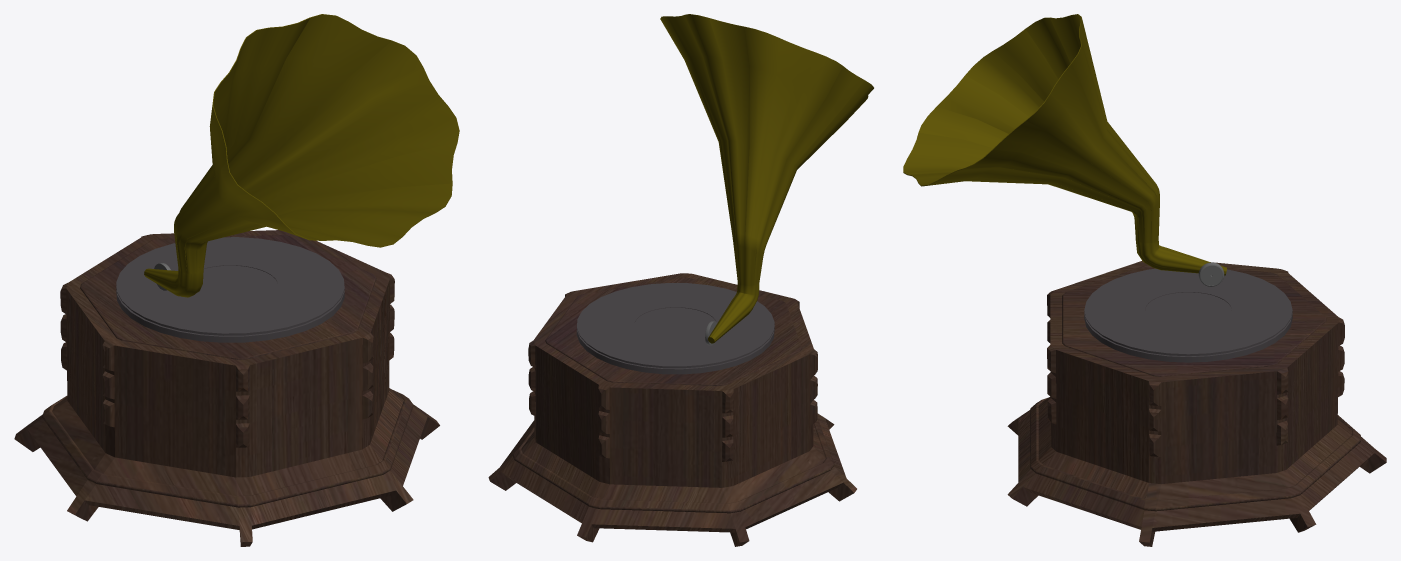
File: Gramaphone.fbx
3 views of the same model, side by side, from view 1: azimuth 30°, elevation 25°; view 2: azimuth 150°, elevation 25°; view 3: azimuth 270°, elevation 25° (orthographic). The views are drawn at different scales.
Visible parts, largest first — view 1: Circle, Circle.002, Circle.001; view 2: Circle, Circle.002, Circle.001; view 3: Circle, Circle.002, Circle.001.
Part boxes in pixels (x1=…): Circle: x1=14, y1=230, x2=439, y2=546; Circle.002: x1=144, y1=14, x2=459, y2=297; Circle.001: x1=116, y1=237, x2=344, y2=342; Circle: x1=488, y1=273, x2=856, y2=546; Circle.002: x1=660, y1=14, x2=873, y2=343; Circle.001: x1=576, y1=283, x2=774, y2=374; Circle: x1=1007, y1=261, x2=1386, y2=546; Circle.002: x1=903, y1=14, x2=1226, y2=275; Circle.001: x1=1084, y1=268, x2=1292, y2=362.
Size of the model in its own units: 273 by 341 by 339.
